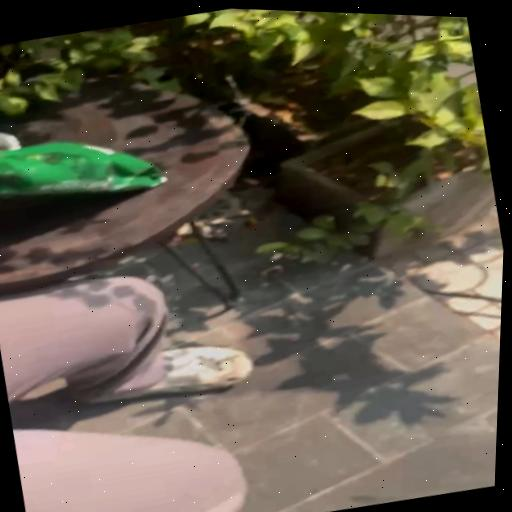cafe_xay: (0, 132, 166, 198)
